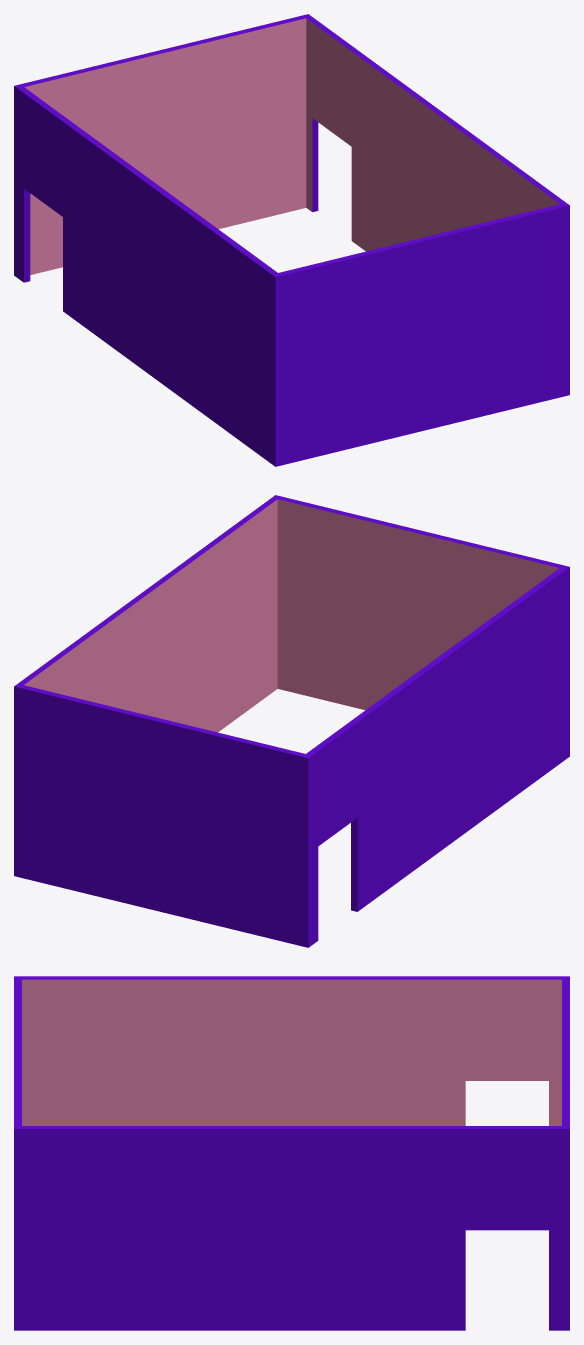
File: werkstatt.fbx
3 renders of one model, top to bottom at view 1: azimuth 30°, elevation 25°; view 2: azimuth 150°, elevation 25°; view 3: azimuth 270°, elevation 25°, orthographic. The views are drawn at different scales.
Parts seen in each view (by area): view 1: Cube; view 2: Cube; view 3: Cube.
Boxes of the visible parts, x1,y1,x2,y2 form: Cube: (14, 14, 569, 466); Cube: (14, 495, 569, 947); Cube: (14, 976, 569, 1330).
Size of the model in its own units: 1000 by 400 by 650.
